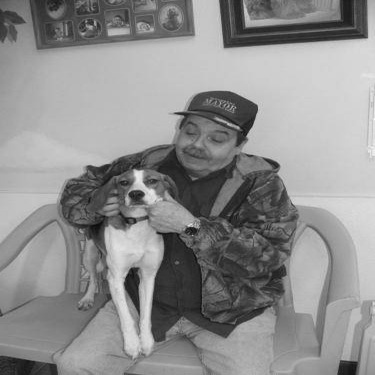dog: (54, 151, 189, 365)
